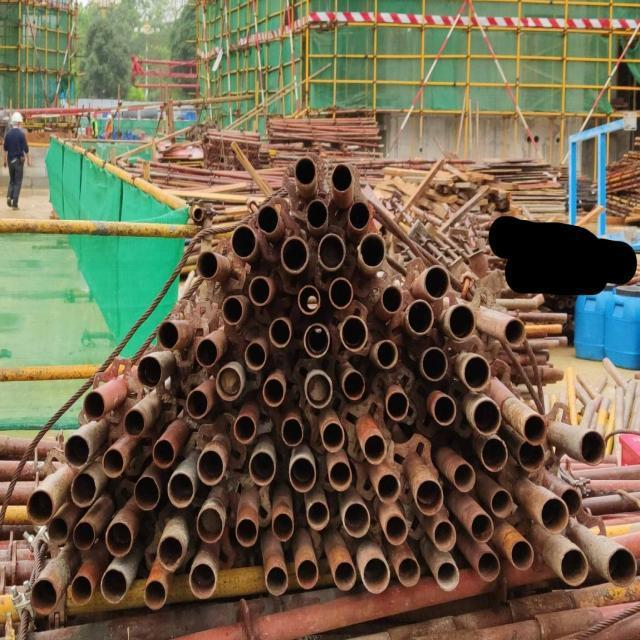pipe: (606, 546, 636, 587), (279, 235, 309, 272), (29, 578, 58, 616), (357, 233, 387, 269), (317, 232, 345, 270), (415, 478, 443, 516), (560, 548, 588, 586), (471, 399, 501, 434), (404, 298, 433, 334), (156, 535, 184, 572), (248, 449, 276, 486), (196, 449, 224, 486), (540, 496, 568, 533), (196, 506, 223, 544), (478, 436, 507, 471), (302, 322, 330, 358), (448, 303, 476, 339), (68, 470, 96, 506), (26, 488, 54, 524), (100, 568, 128, 604), (289, 456, 316, 493), (106, 520, 132, 558), (304, 372, 332, 407), (339, 315, 367, 350), (423, 264, 450, 300), (189, 562, 216, 598), (167, 471, 194, 507), (362, 556, 389, 592), (64, 434, 90, 471), (464, 355, 491, 390), (133, 475, 160, 509), (342, 502, 369, 536), (421, 346, 448, 380), (216, 365, 242, 400), (580, 430, 606, 465), (230, 224, 256, 258), (136, 356, 161, 390), (518, 438, 544, 470), (150, 438, 176, 469), (328, 277, 354, 308), (432, 518, 456, 551), (142, 578, 166, 610), (232, 412, 256, 444), (185, 388, 209, 420), (328, 459, 352, 491), (510, 538, 534, 570), (476, 550, 500, 582), (362, 433, 387, 463), (432, 394, 457, 424), (523, 414, 547, 445), (397, 556, 420, 588), (72, 520, 95, 552), (385, 512, 407, 545), (306, 499, 330, 529), (82, 390, 106, 420), (243, 340, 266, 371), (377, 472, 400, 503), (453, 462, 476, 493), (306, 198, 328, 230), (248, 274, 270, 306), (296, 558, 318, 590), (269, 316, 291, 348), (437, 559, 459, 591), (194, 338, 218, 367), (265, 566, 288, 596), (297, 284, 320, 314), (333, 560, 356, 590), (342, 370, 365, 400), (386, 390, 409, 420), (375, 338, 398, 368), (470, 512, 493, 542), (221, 295, 243, 326), (322, 421, 344, 452), (102, 448, 124, 479), (70, 575, 92, 606), (348, 198, 370, 228), (196, 250, 218, 280), (156, 320, 178, 350), (381, 284, 403, 314), (490, 488, 512, 518), (560, 487, 582, 517), (504, 317, 526, 347), (235, 518, 258, 546), (295, 157, 317, 186), (330, 163, 352, 192), (256, 204, 278, 233), (124, 408, 146, 437), (262, 378, 284, 407), (272, 512, 294, 540), (281, 418, 302, 446), (48, 516, 69, 544), (194, 207, 204, 220)
